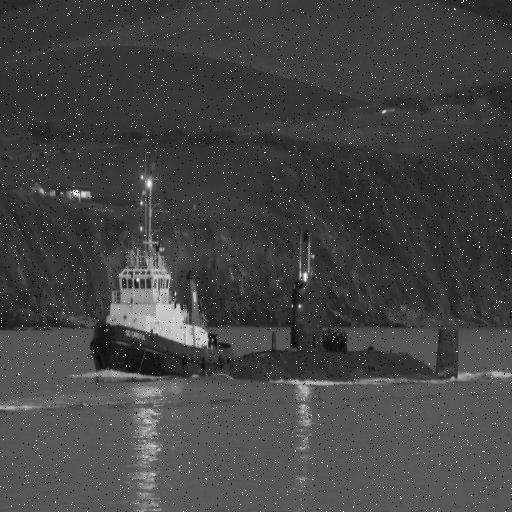submarine: (221, 279, 459, 382)
